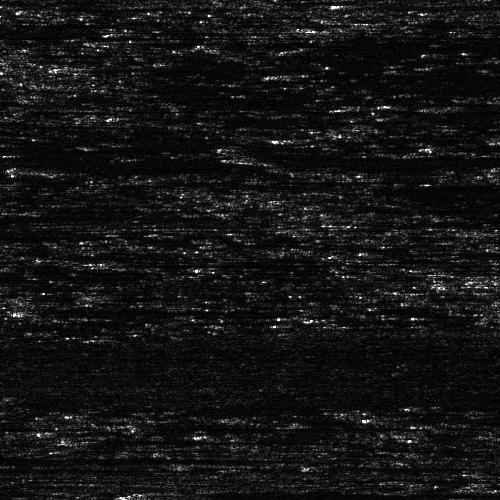object: (18, 255, 205, 270), (22, 61, 147, 74), (5, 163, 88, 172), (0, 308, 76, 315), (134, 491, 207, 498), (318, 0, 371, 9), (209, 153, 262, 162), (264, 70, 327, 77), (461, 135, 500, 144), (296, 464, 327, 469), (436, 145, 447, 150)
shadow: (84, 61, 500, 74), (112, 255, 348, 270), (236, 153, 486, 162), (170, 491, 478, 498), (0, 156, 161, 167), (0, 454, 147, 465), (296, 70, 500, 77), (47, 163, 205, 172), (345, 0, 500, 9), (0, 466, 199, 471), (30, 308, 108, 315), (312, 464, 392, 469), (441, 145, 500, 150)
